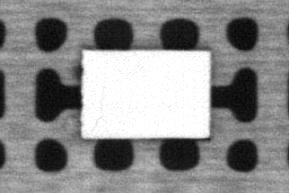DIE_CRACK: (89, 84, 105, 133)
